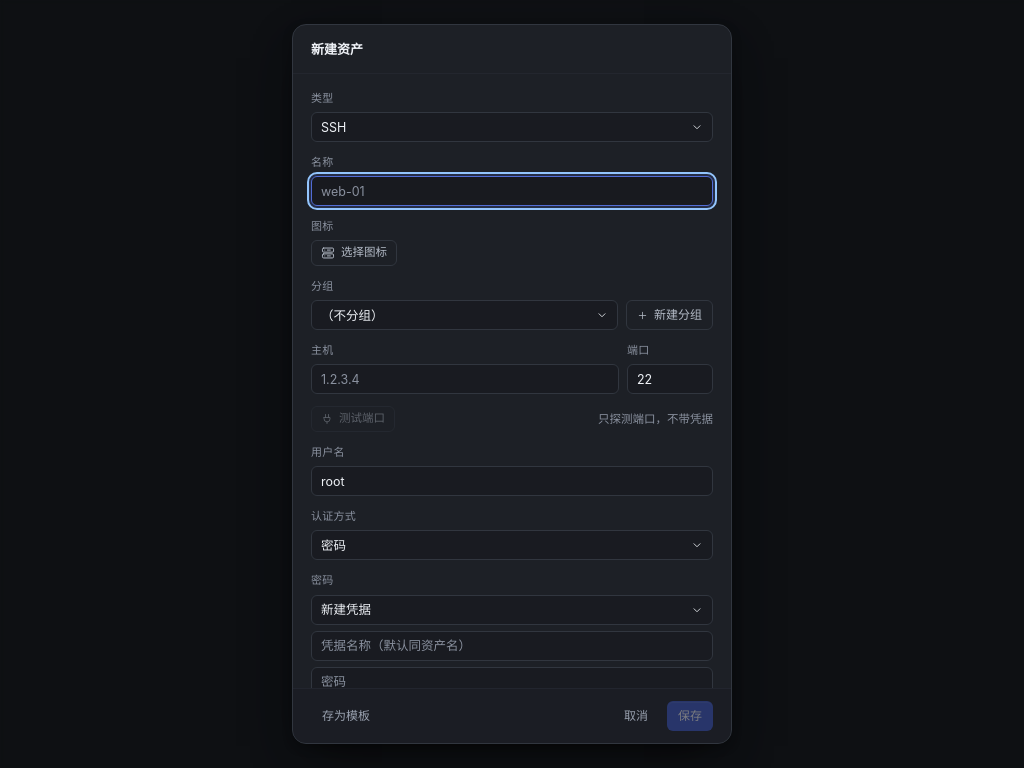
Test: asset editor shared credential hint › warns about shared effects when selecting an existing password credential
Click the button "新建凭据".
click(346, 609)  # box [311, 594, 713, 624]
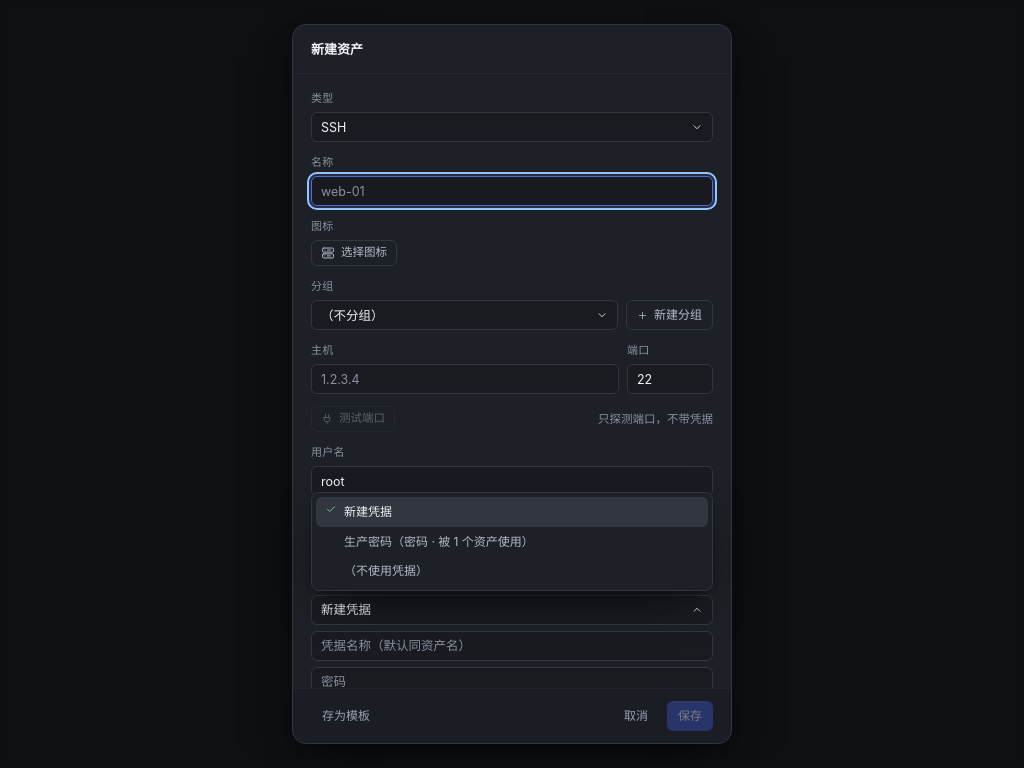
Click the button "新建凭据".
click(346, 609)  # box [311, 594, 713, 624]
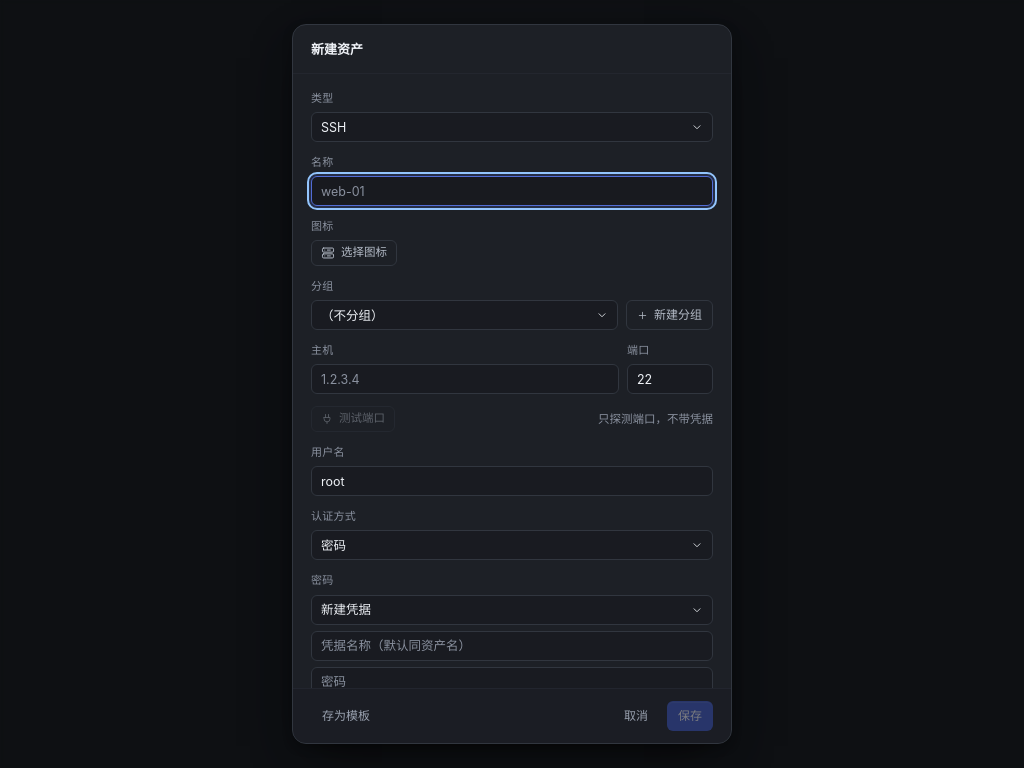
Click the button "新建凭据".
click(346, 609)  # box [311, 594, 713, 624]
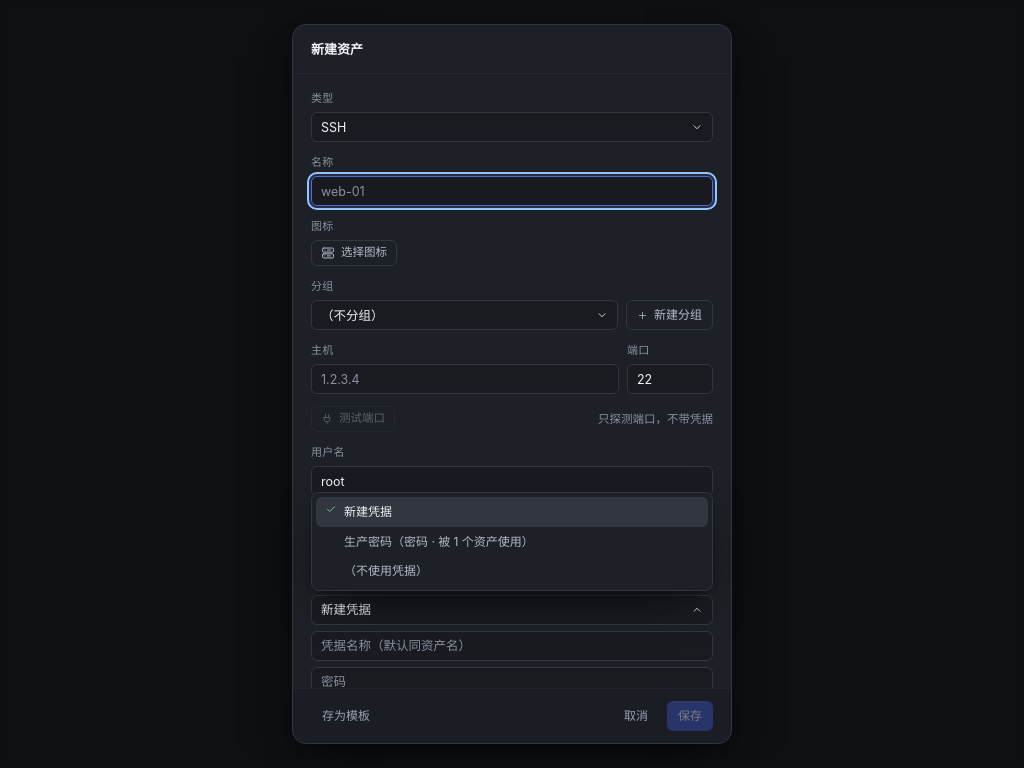
Click the option "生产密码（密码 · 被 1 个资产使用）".
click(439, 541)  # box [344, 534, 534, 549]
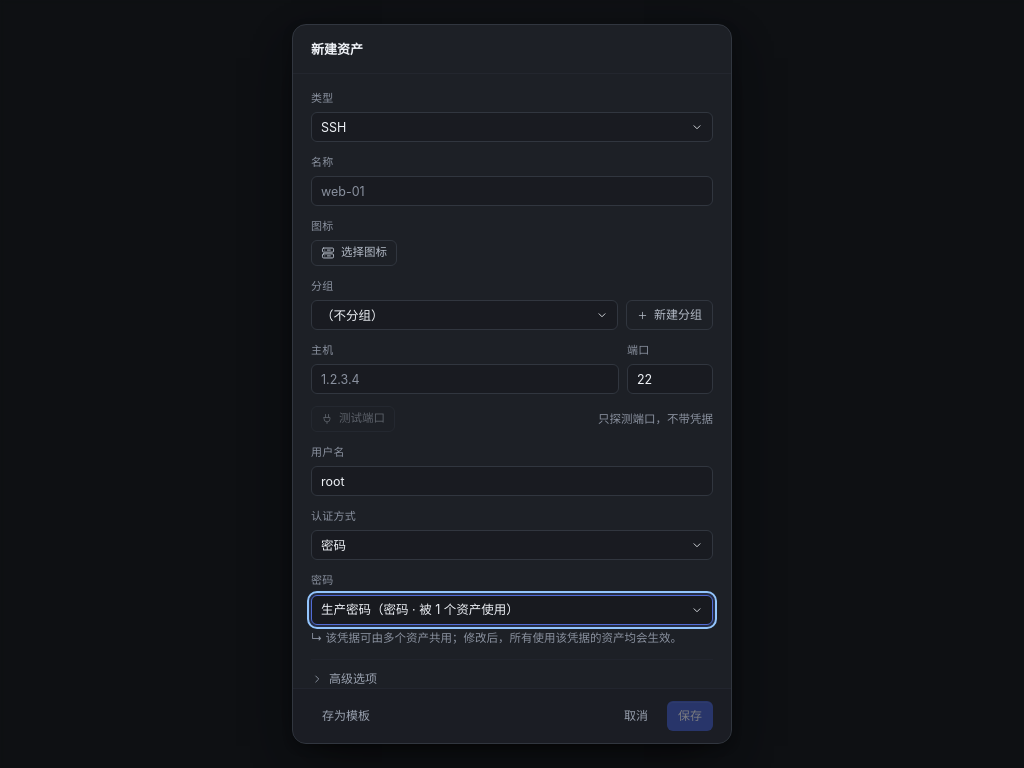
Expected: the text "↳ 该凭据可由多个资产共用；修改后，所有使用该凭据的资产均会生效。" is shown, [311, 628, 713, 647]
